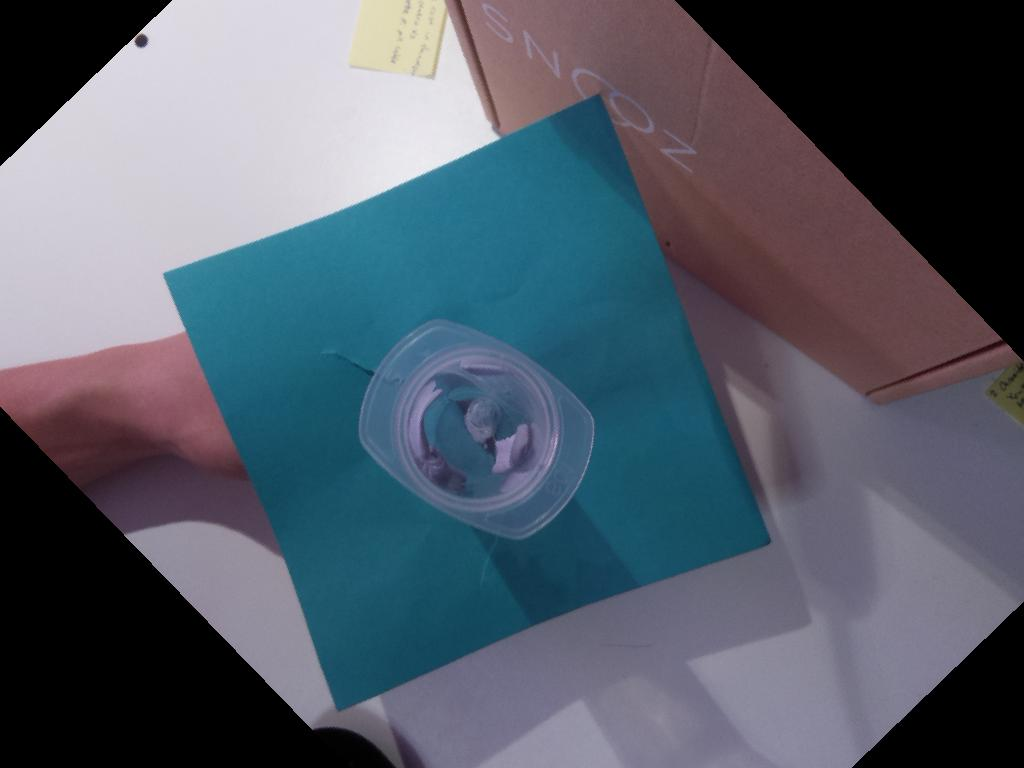dirty: (359, 318, 594, 540)
